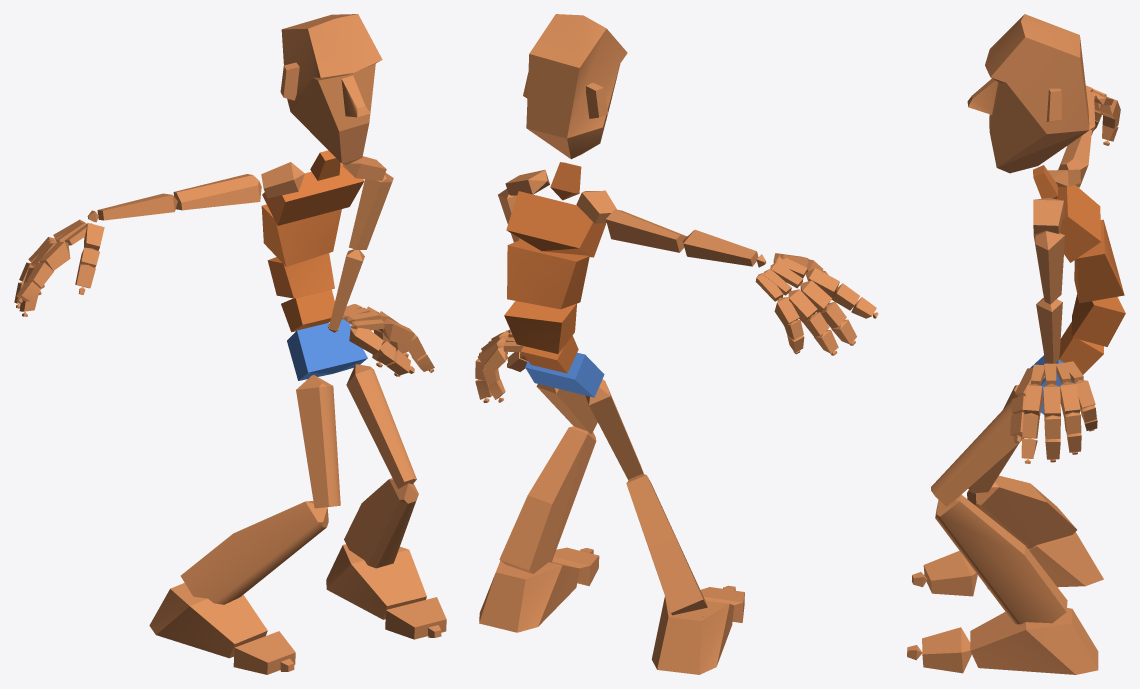
The picture shows the model from 3 angles, left to right: view 1: azimuth 30°, elevation 25°; view 2: azimuth 150°, elevation 25°; view 3: azimuth 270°, elevation 25°; orthographic projection. The views are drawn at different scales.
Parts seen in each view (by area): view 1: BOPED_Head, BOPED_R_leg, BOPED_R_foot, BOPED_R_foot01, BOPED_R_legup, BOPED_L_leg, BOPED_L_legup, Bone01, Bone04, Bone05, Bone03, BOPED_R_arm_upper (+9 smaller); view 2: BOPED_Head, BOPED_L_leg, BOPED_R_foot01, BOPED_R_foot, BOPED_R_leg, Bone04, Bone05, Bone03, BOPED_R_legup, BOPED_R_arm_upper, Bone01, BOPED_R_arm_fore (+7 smaller); view 3: BOPED_Head, BOPED_L_leg, BOPED_R_foot01, BOPED_R_leg, BOPED_L_legup, BOPED_R_foot, Bone05, Bone04, Bone03, BOPED_R_foot_toe01, BOPED_R_foot_toe04, BOPED_L_arm_upper (+14 smaller).
Boxes of the visible parts, <box> form: BOPED_Head: <box>280,14,382,164</box>; BOPED_R_leg: <box>180,501,328,604</box>; BOPED_R_foot: <box>149,583,267,658</box>; BOPED_R_foot01: <box>326,544,426,619</box>; BOPED_R_legup: <box>296,375,340,508</box>; BOPED_L_leg: <box>344,478,418,568</box>; BOPED_L_legup: <box>346,364,416,488</box>; Bone01: <box>287,319,367,380</box>; Bone04: <box>261,204,341,266</box>; Bone05: <box>262,163,364,225</box>; Bone03: <box>267,253,334,298</box>; BOPED_R_arm_upper: <box>173,174,261,210</box>; BOPED_Head: <box>523,14,627,159</box>; BOPED_L_leg: <box>499,426,596,573</box>; BOPED_R_foot01: <box>479,560,579,632</box>; BOPED_R_foot: <box>651,596,734,674</box>; BOPED_R_leg: <box>626,474,707,615</box>; Bone04: <box>507,239,589,309</box>; Bone05: <box>506,191,606,257</box>; Bone03: <box>504,301,576,353</box>; BOPED_R_legup: <box>585,379,643,480</box>; BOPED_R_arm_upper: <box>606,209,686,252</box>; Bone01: <box>525,352,604,397</box>; BOPED_R_arm_fore: <box>682,229,758,266</box>; BOPED_Head: <box>967,14,1089,173</box>; BOPED_L_leg: <box>935,494,1067,624</box>; BOPED_R_foot01: <box>970,608,1098,674</box>; BOPED_R_leg: <box>967,475,1076,548</box>; BOPED_L_legup: <box>931,400,1024,506</box>; BOPED_R_foot: <box>987,532,1103,589</box>; Bone05: <box>1057,185,1101,262</box>; Bone04: <box>1074,219,1124,303</box>; Bone03: <box>1072,294,1125,346</box>; BOPED_R_foot_toe01: <box>923,551,977,596</box>; BOPED_R_foot_toe04: <box>922,627,971,673</box>; BOPED_L_arm_upper: <box>1033,230,1064,304</box>.
Bounding box in the file's own units: 126 × 175 × 56.5.
